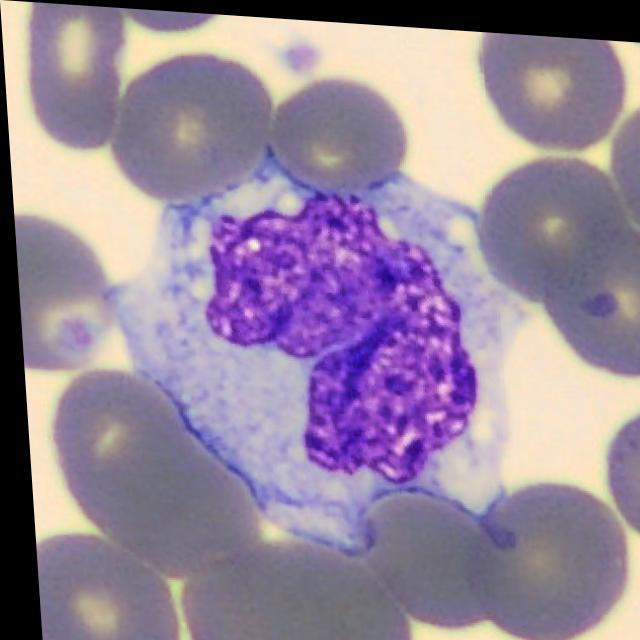Monocito: (105, 148, 519, 546)
